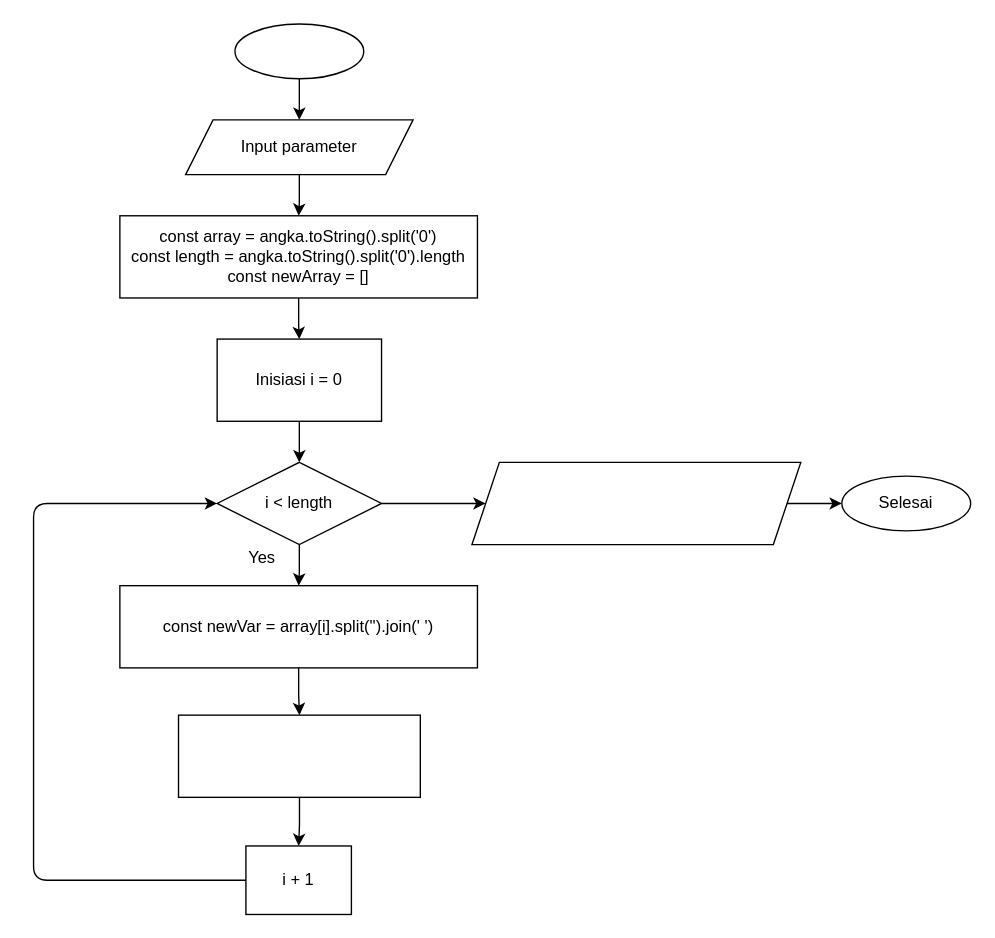
The diagram is 995 pixels wide and 938 high, and some of its shapes have lost their labels. The shapes that lost their labels are listed below. From the top down, each one's box as (x1, y1, x2, y2) in pixels, then its label:
(234, 23, 364, 79): Mulai
(471, 461, 801, 545): output console.log(parseInt(newArray.join(' '))
(177, 714, 420, 797): newArray.push(newVar)
